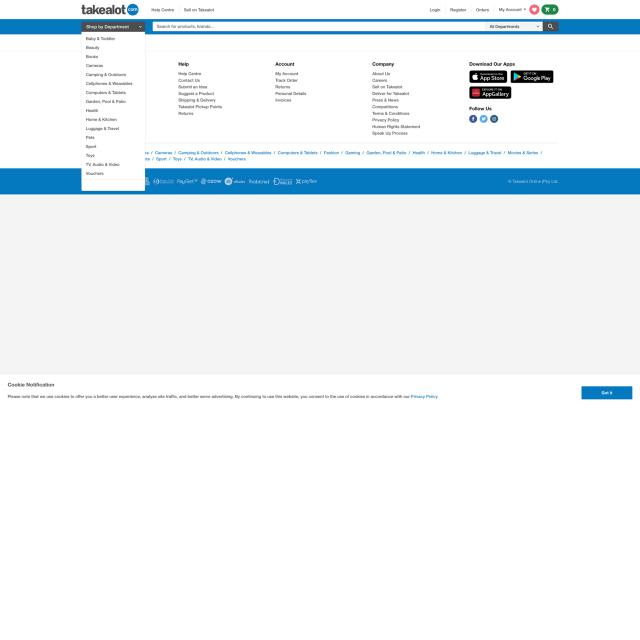footer: (146, 47, 638, 194)
input: (152, 22, 560, 32)
logo: (79, 2, 141, 17)
navigation: (84, 34, 143, 178), (148, 6, 527, 16)
